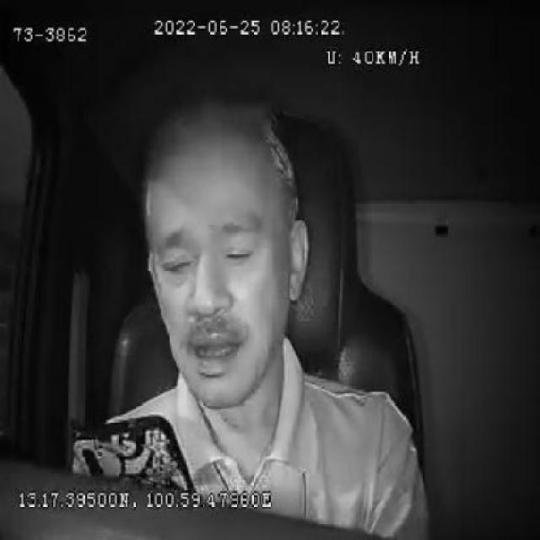phone: (70, 415, 196, 492)
